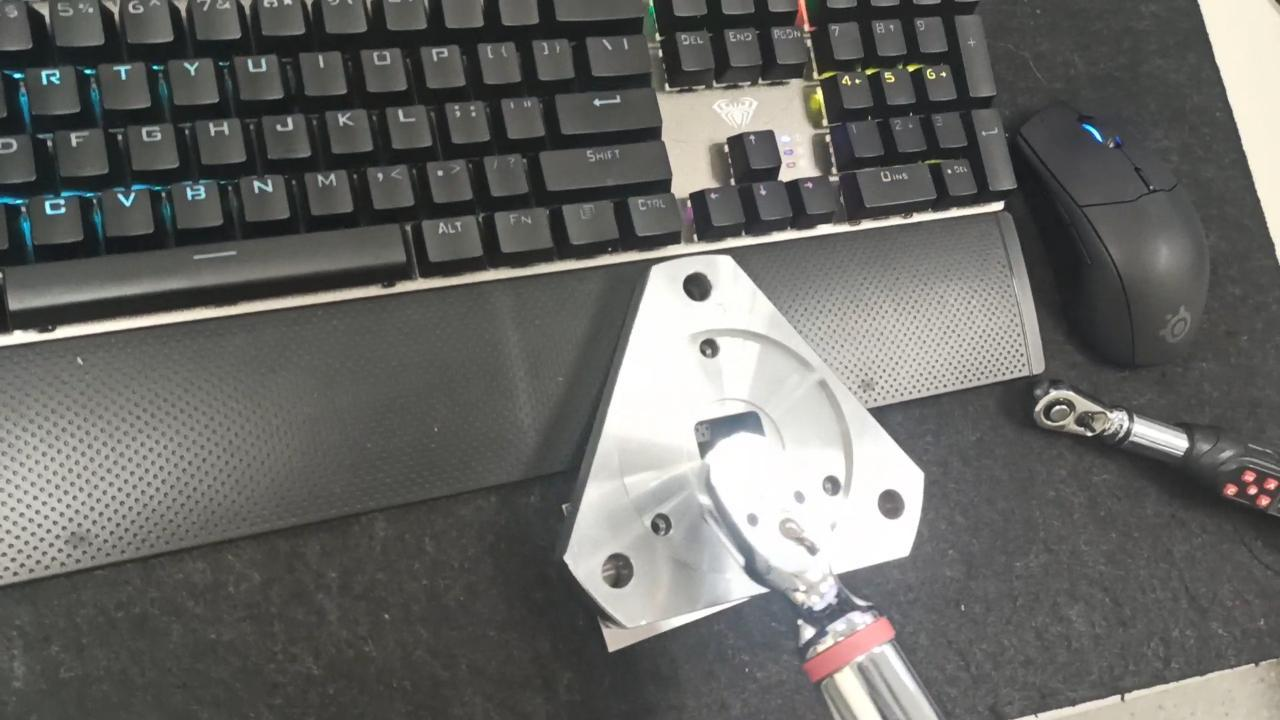Tool: (1033, 385, 1124, 451)
hole: (674, 265, 725, 310), (600, 552, 640, 593), (874, 488, 905, 525), (691, 332, 723, 360), (649, 512, 674, 542), (815, 475, 841, 498)
